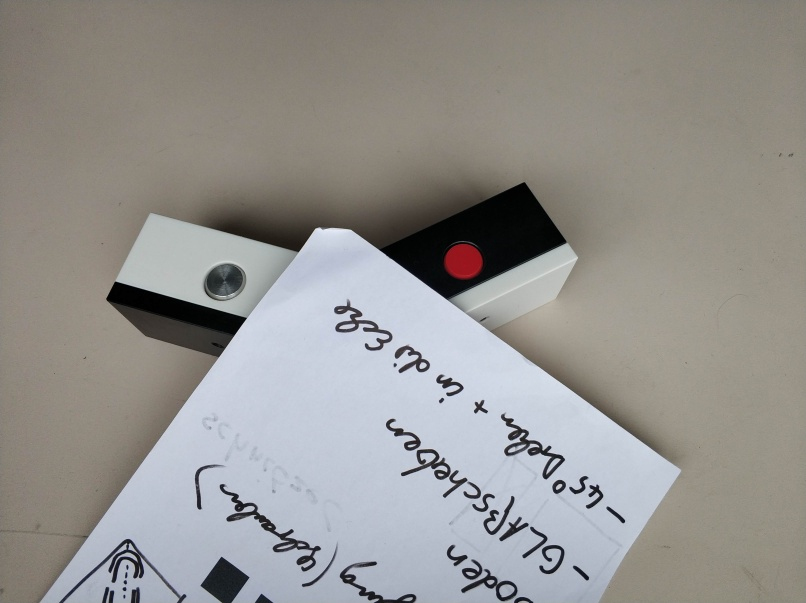black+white+silver: (100, 209, 303, 361)
white+black+red: (370, 180, 580, 333)
